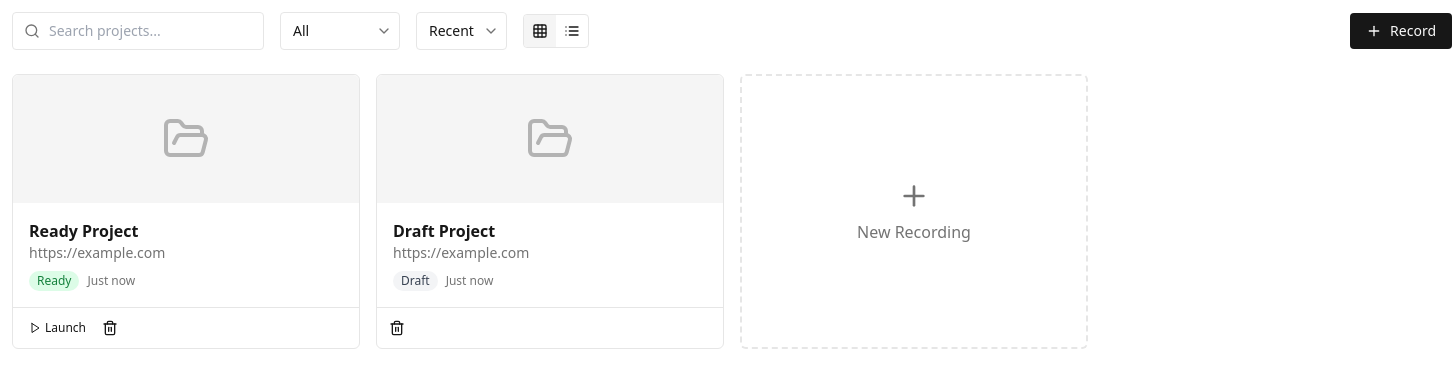
Test: ProjectList › should filter projects by status
This screenshot has width=1452, height=366.
Select "Ready" in the 1st dropdown showing "All" at (340, 31), box [280,12,400,50]
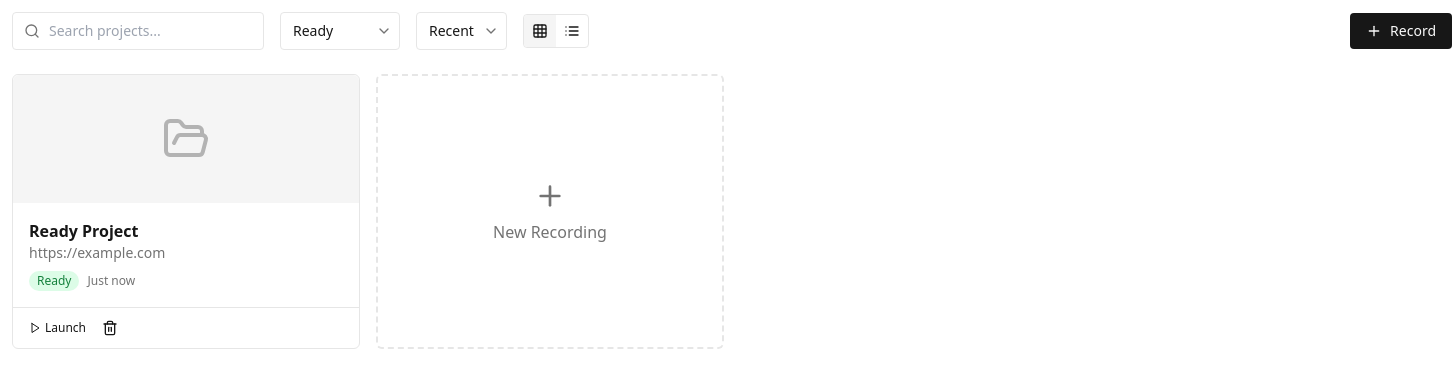
Expected: the heading "Ready Project" is shown, [29,220,138,242]
Result: the link "Draft Project" is gone
